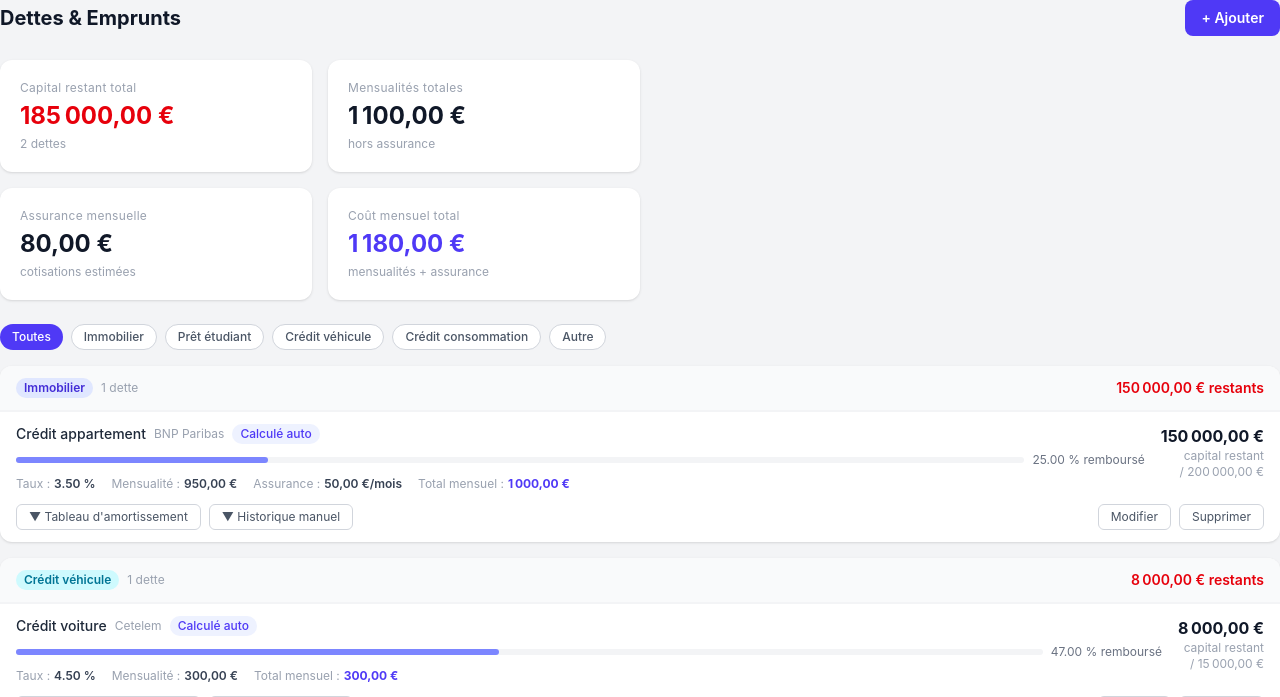
Scenario: DettePage — pattern CRUD avec DeleteConfirmModal › filtre les dettes par type
This screenshot has width=1280, height=697.
Expected: the text "Crédit appartement" is shown, x1=16 y1=424 x2=146 y2=444
Expected: the text "Crédit voiture" is shown, x1=16 y1=616 x2=107 y2=636
Click the button "Crédit véhicule" at [328, 337], box x1=272 y1=324 x2=384 y2=350
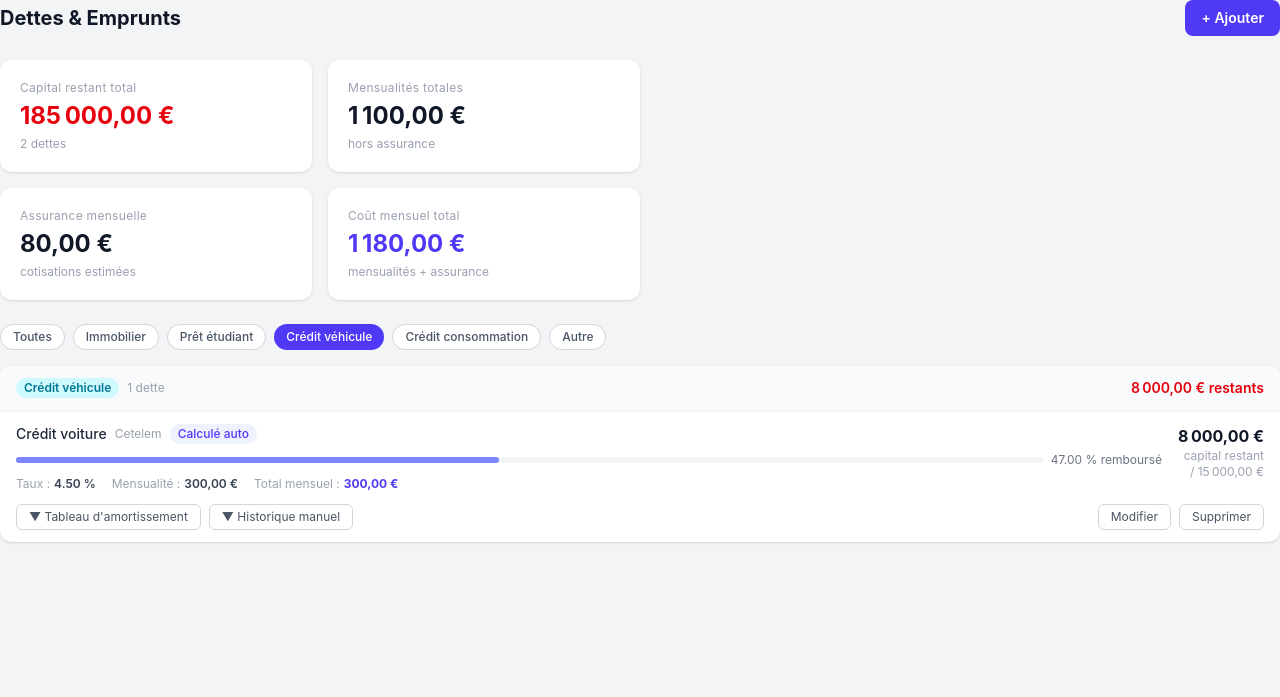
Expected: the text "Crédit voiture" is shown, x1=16 y1=424 x2=107 y2=444
Now the text "Crédit appartement" is gone
